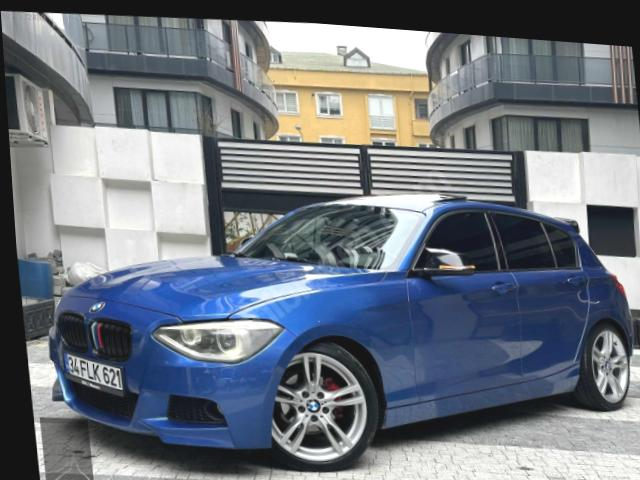plaka: (64, 354, 124, 396)
